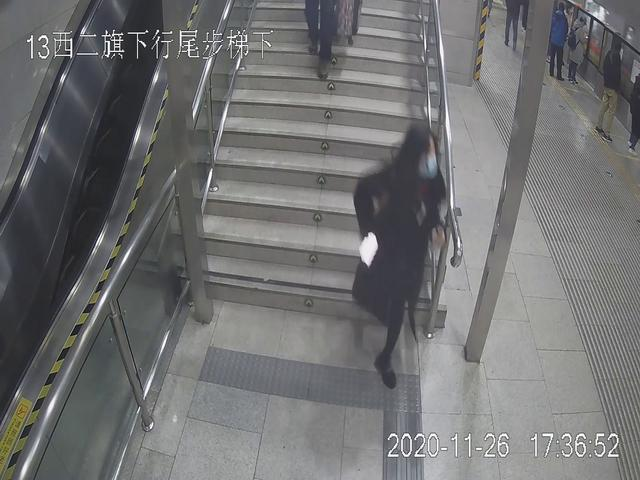person: (338, 111, 451, 387), (589, 30, 640, 144), (559, 4, 589, 98)
